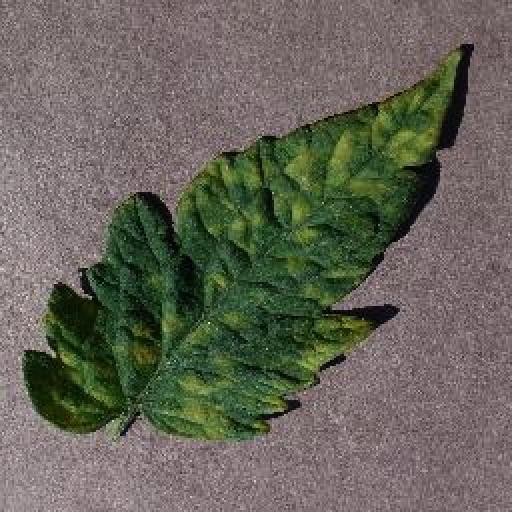disease_tomato: (26, 46, 464, 444)
